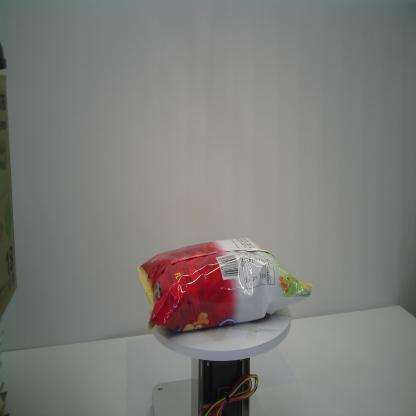Puffed Food: (136, 235, 316, 333)
